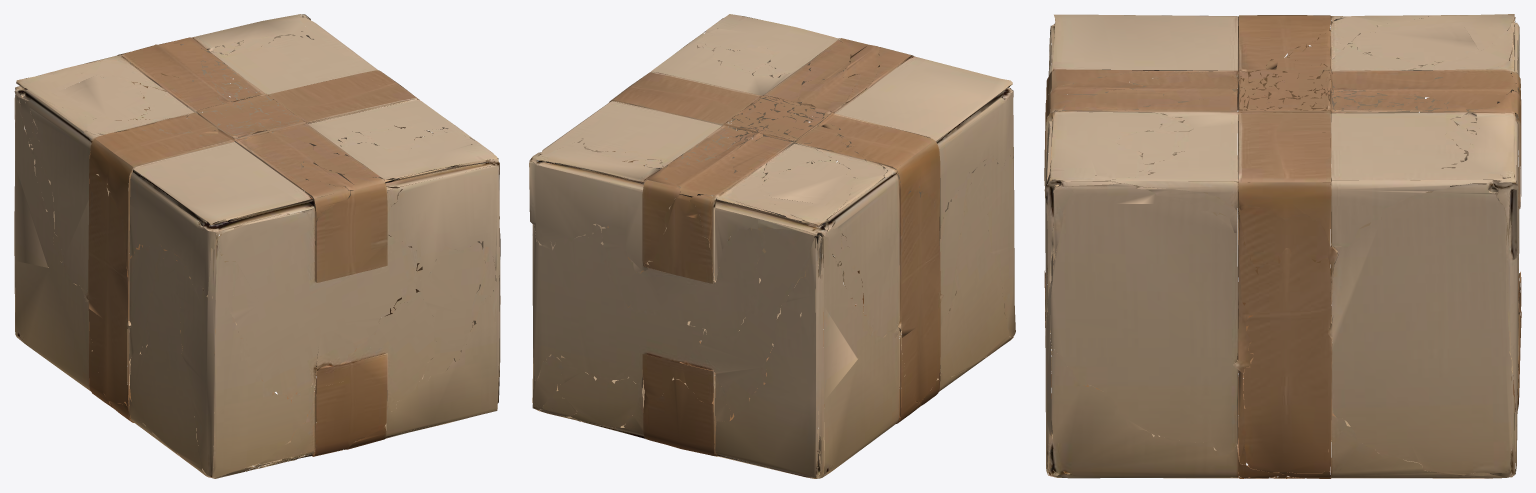
The model's file is box_tape_lod0.glb.
3 renders of one model, left to right at view 1: azimuth 30°, elevation 25°; view 2: azimuth 150°, elevation 25°; view 3: azimuth 270°, elevation 25°, orthographic. The views are drawn at different scales.
Parts seen in each view (by area): view 1: node_0; view 2: node_0; view 3: node_0.
Part boxes in pixels (x1,y1,x2,y2): node_0: (14, 14, 500, 478); node_0: (529, 14, 1015, 478); node_0: (1044, 14, 1521, 478).
Size of the model in its own units: 1.19 by 1.01 by 1.4.
1 material, 1 textured.
